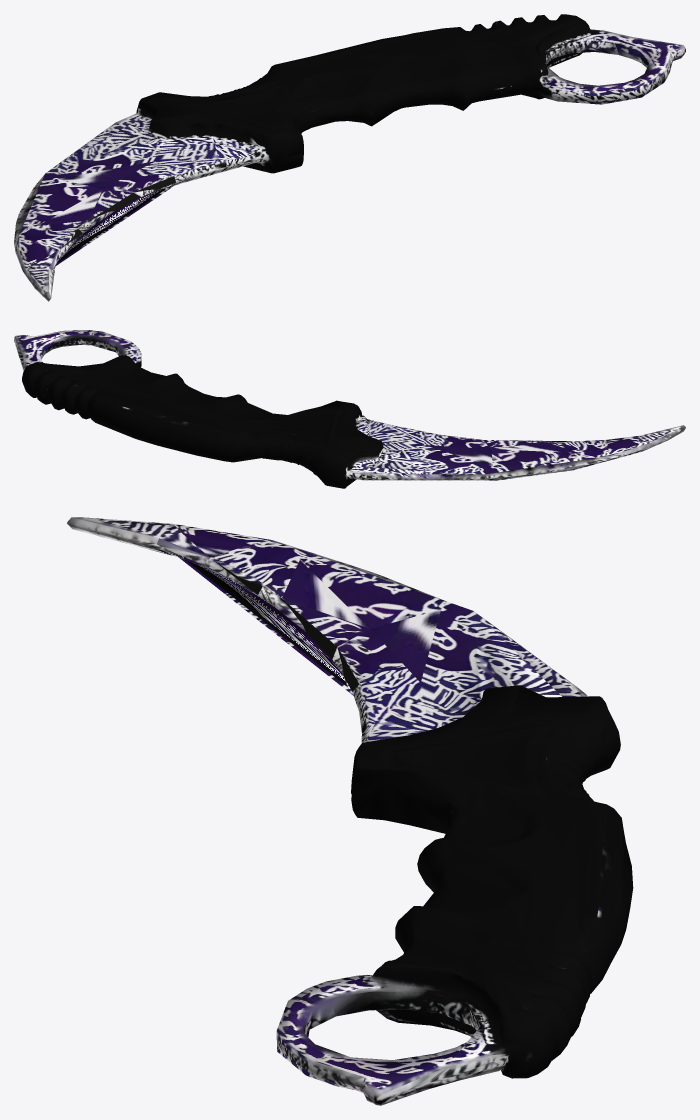
File: karambit.glb
3 renders of one model, top to bottom at view 1: azimuth 30°, elevation 25°; view 2: azimuth 150°, elevation 25°; view 3: azimuth 270°, elevation 25°, orthographic. The views are drawn at different scales.
Parts seen in each view (by area): view 1: node_0.002_Material.003_0; view 2: node_0.002_Material.003_0; view 3: node_0.002_Material.003_0.
Part boxes in pixels (left/top/right/bottom): node_0.002_Material.003_0: left=14, top=14, right=685, bottom=301; node_0.002_Material.003_0: left=14, top=330, right=685, bottom=488; node_0.002_Material.003_0: left=67, top=517, right=633, bottom=1105.
Bounding box in the file's own units: 1.11 × 0.053 × 0.4581.
Materials: 1 (1 with a texture image).
